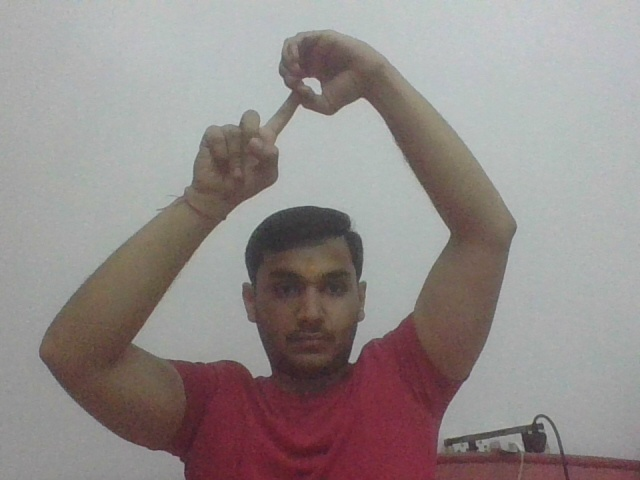Q: (225, 24, 372, 169)
